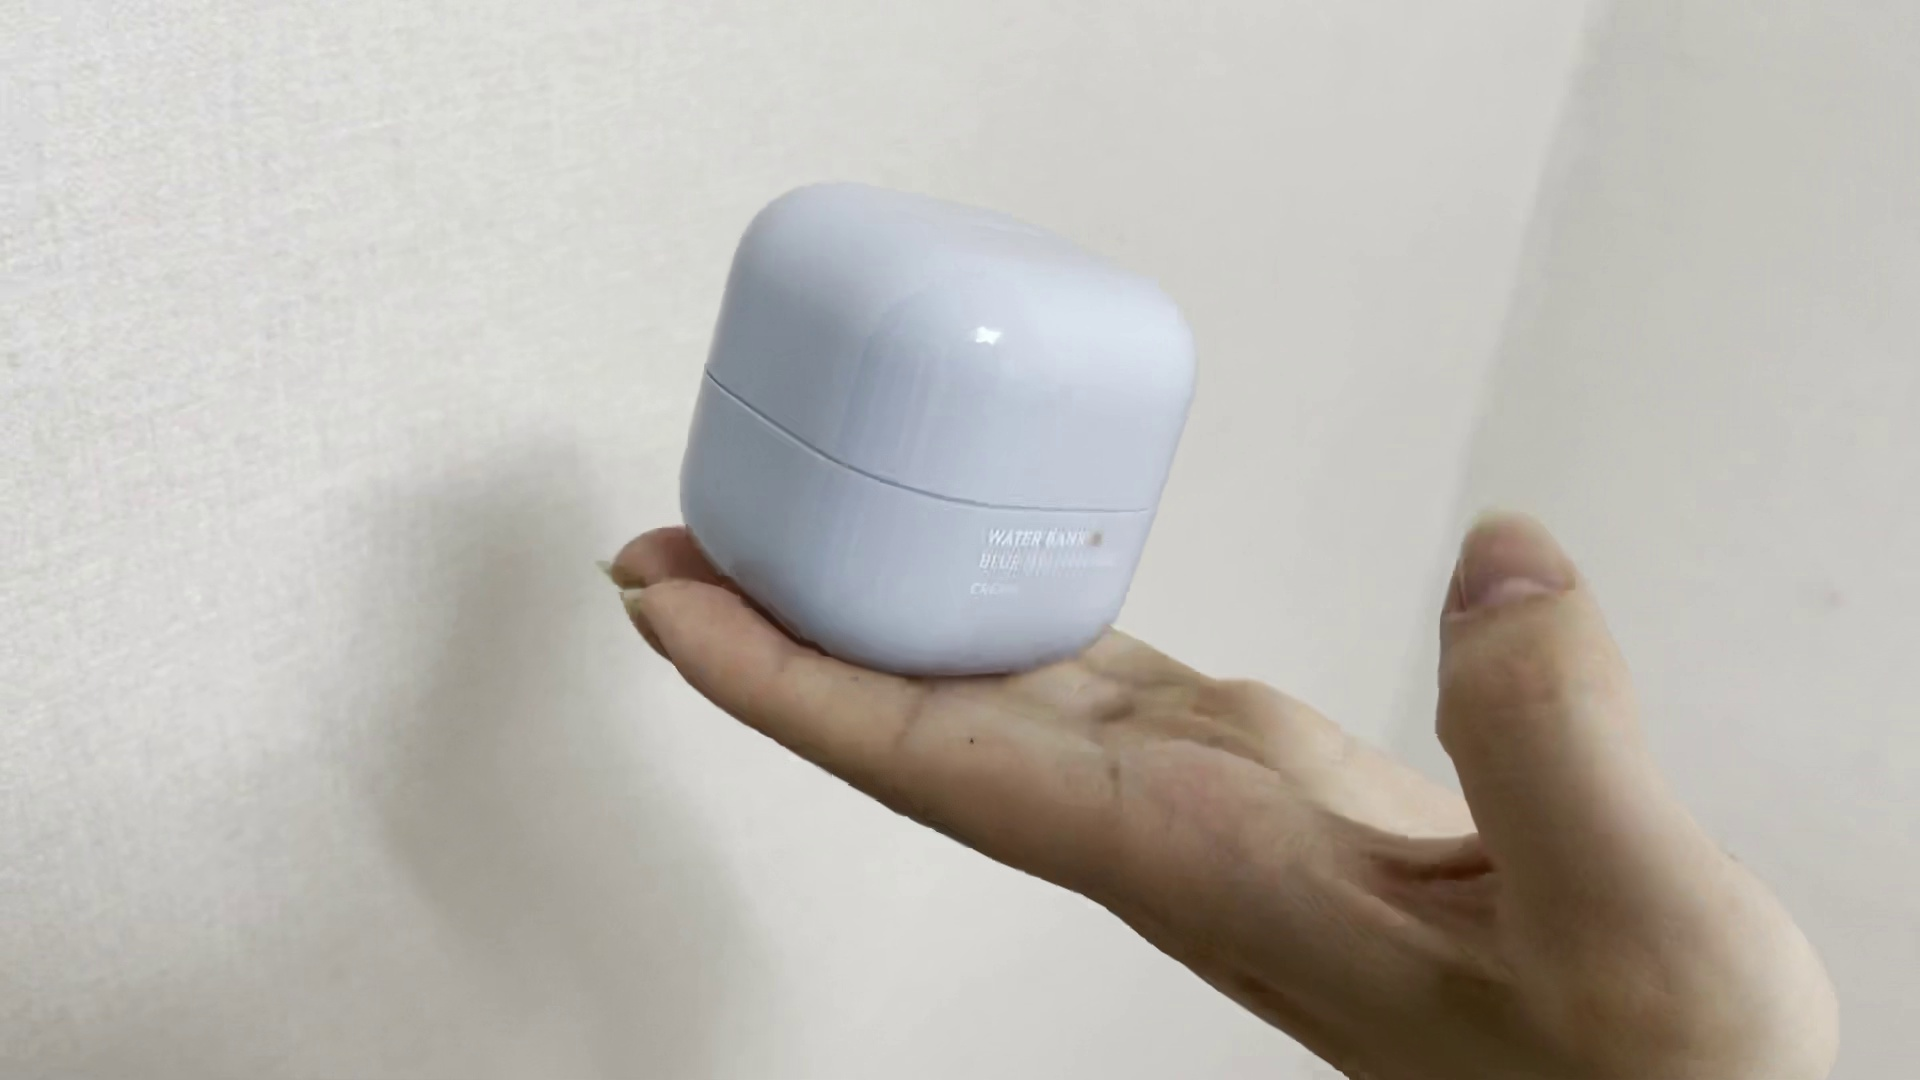cream: (678, 174, 1196, 680)
